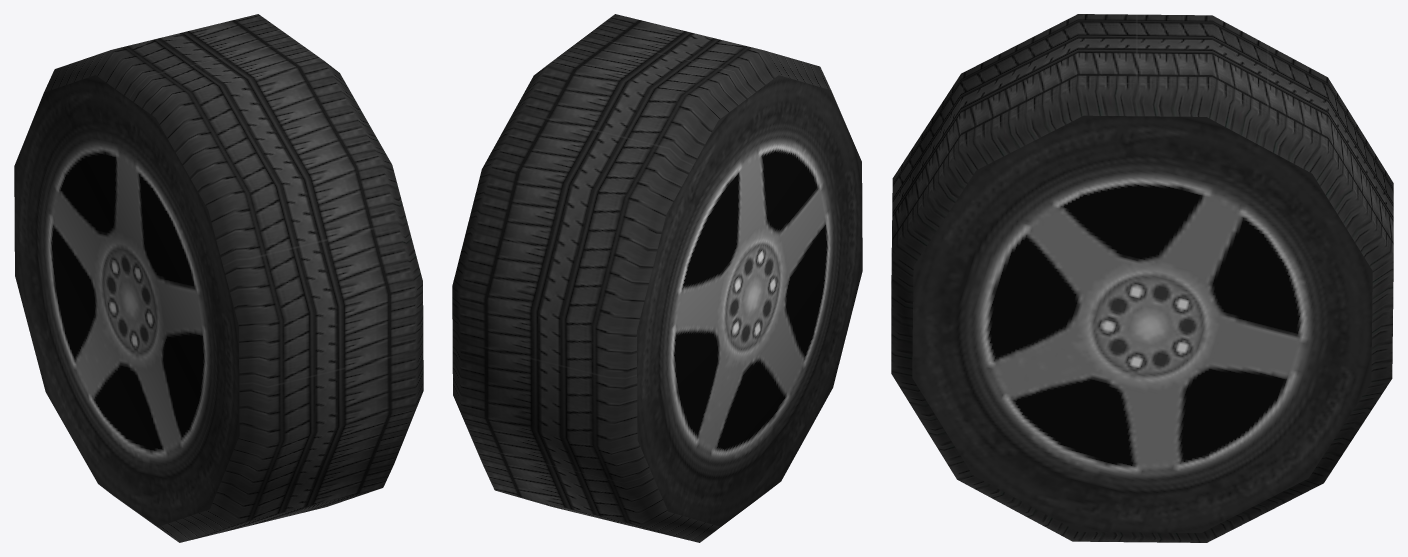
Rendered from WheelModernPerformance.FBX.
3 renders of one model, left to right at view 1: azimuth 30°, elevation 25°; view 2: azimuth 150°, elevation 25°; view 3: azimuth 270°, elevation 25°, orthographic. The views are drawn at different scales.
Parts seen in each view (by area): view 1: wheelModernPerformance001; view 2: wheelModernPerformance001; view 3: wheelModernPerformance001.
Part boxes in pixels (x1=…): wheelModernPerformance001: x1=14, y1=14, x2=423, y2=542; wheelModernPerformance001: x1=452, y1=14, x2=862, y2=542; wheelModernPerformance001: x1=891, y1=14, x2=1393, y2=542.
Size of the model in its own units: 34.01 by 78.67 by 78.67.
